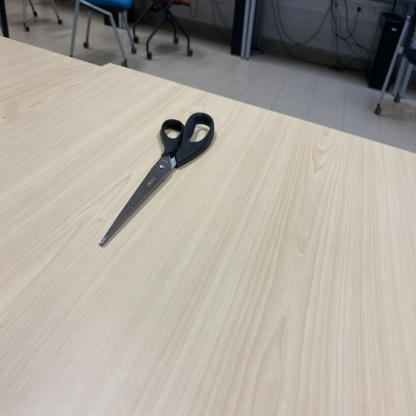scissors: (99, 111, 215, 249)
